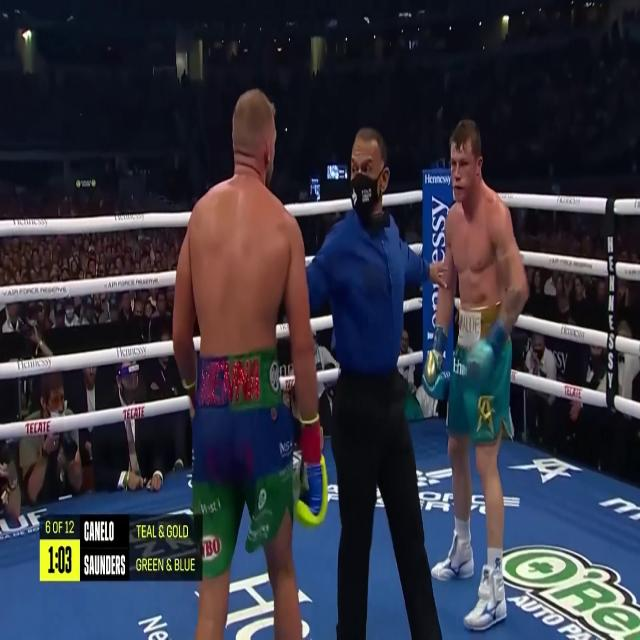boxer_1: (172, 88, 318, 420)
boxer_2: (437, 120, 529, 332)
gloves_1: (295, 445, 328, 527)
gloves_2: (466, 318, 509, 381), (423, 324, 447, 397)
